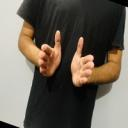hand: (70, 36, 94, 87), (37, 29, 61, 77)
